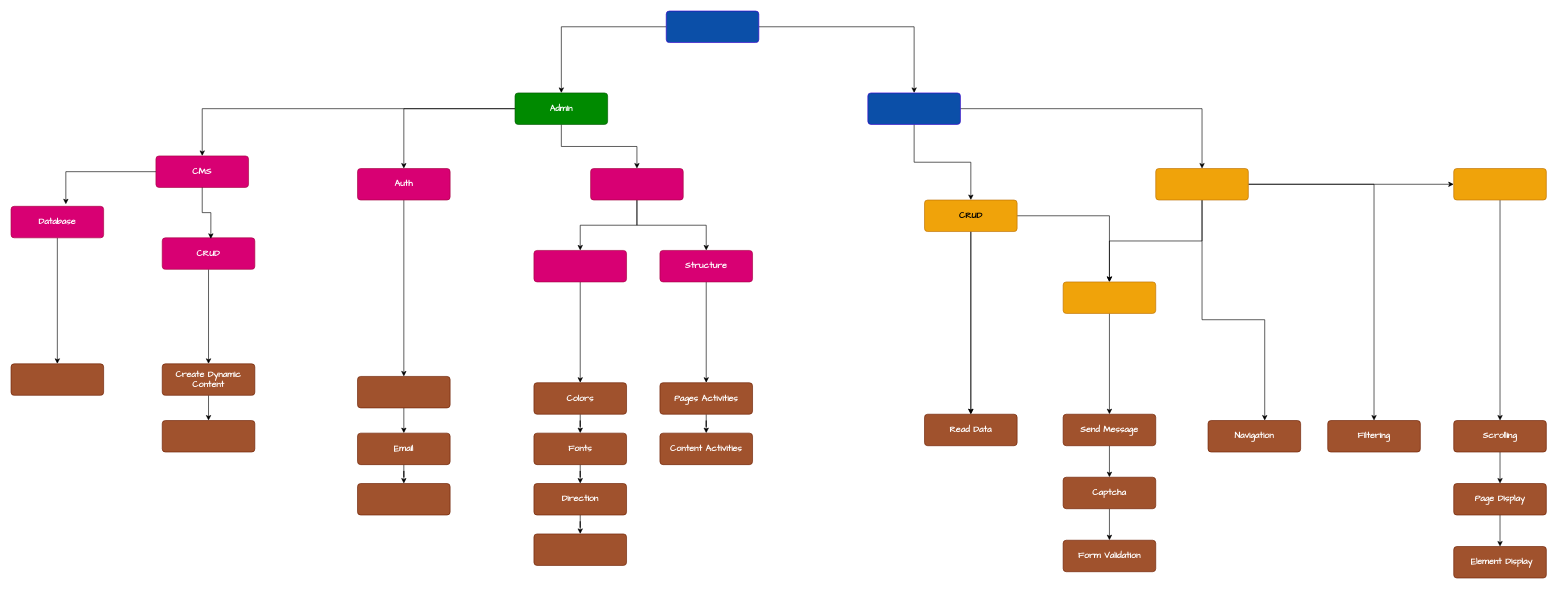
The diagram is 1557 pixels wide and 589 high, and some of its shapes have lost their labels. The shapes that lost their labels are listed below. From the top down, each one's centre as x and y in pixels, then its label:
(x=712, y=26): Assessmet
(x=913, y=108): Website
(x=636, y=184): UMS
(x=1201, y=184): Interaction
(x=1499, y=184): Animation
(x=580, y=266): Customize
(x=1109, y=297): Create Data
(x=57, y=379): Connection
(x=403, y=392): Google
(x=208, y=436): Content Editor
(x=403, y=499): SMS
(x=580, y=549): Some Styles
